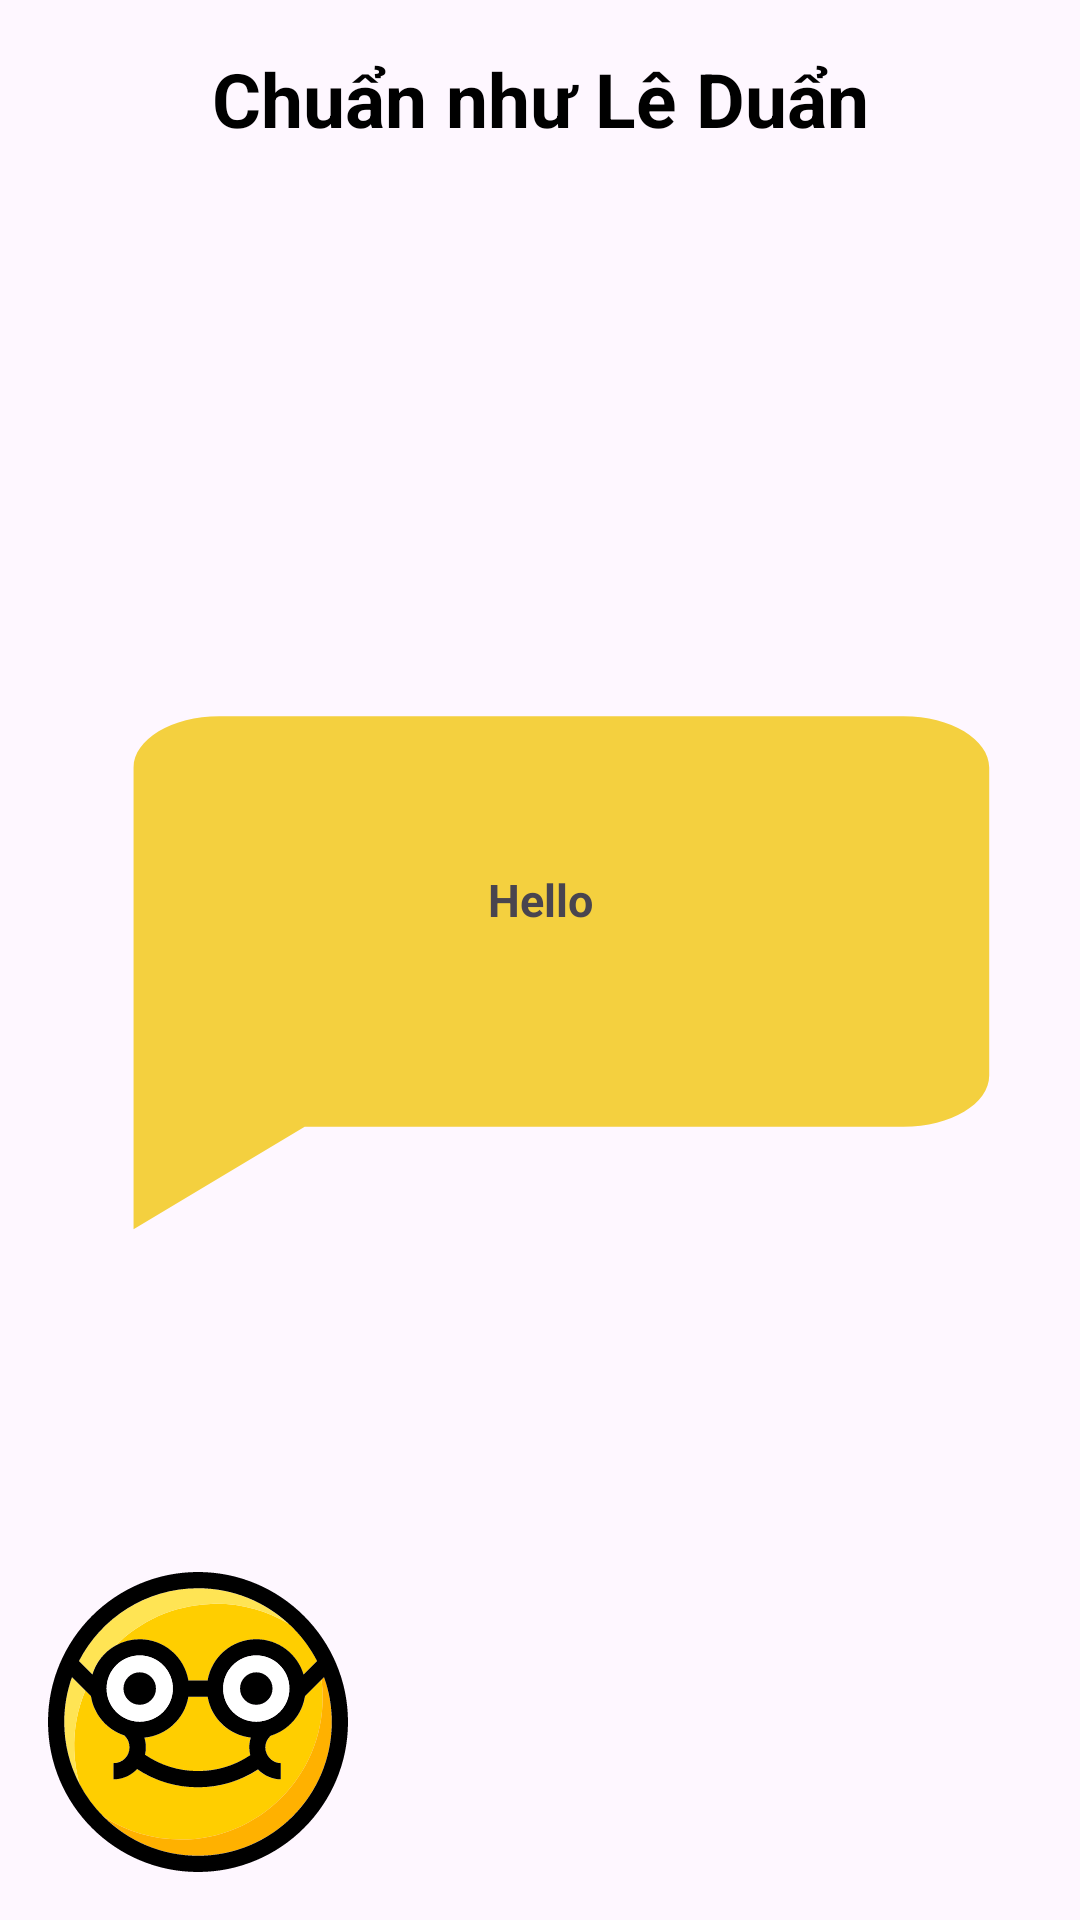

Where to tap for icons on this 1080×1920 app screen, as [x,y]:
nerd: [198,1722]
